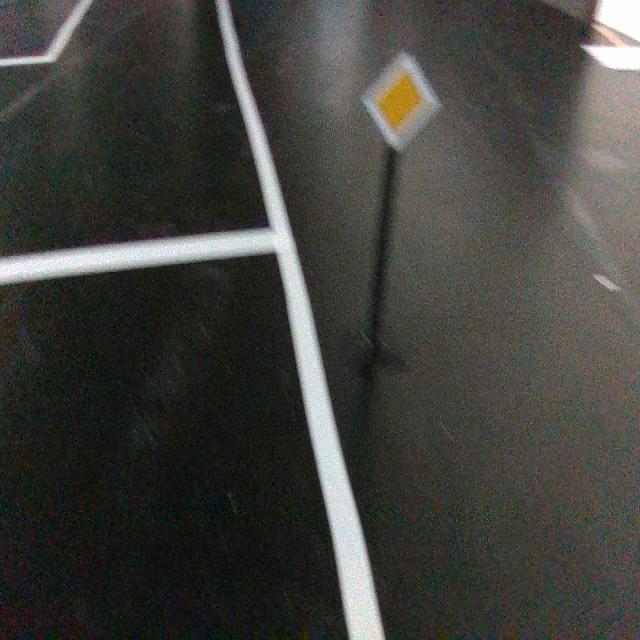priority-sign: (359, 50, 435, 144)
